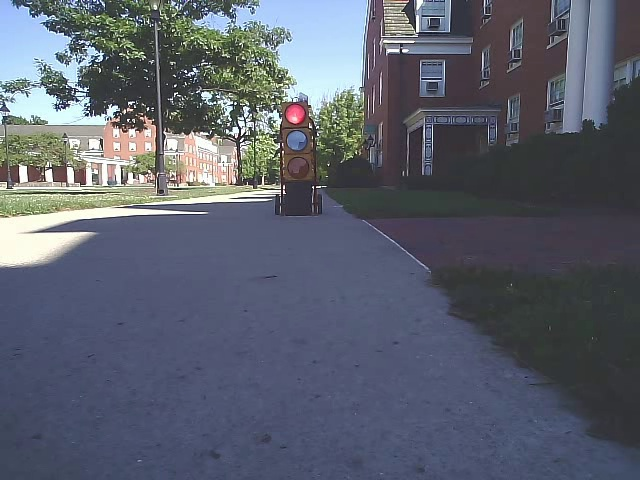red: (279, 98, 317, 181)
